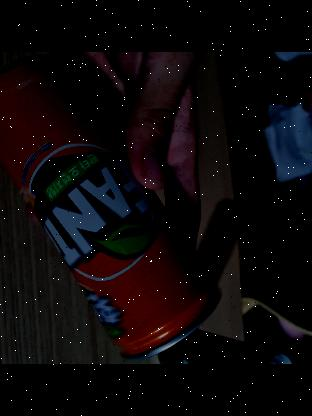Can: (0, 57, 216, 364)
